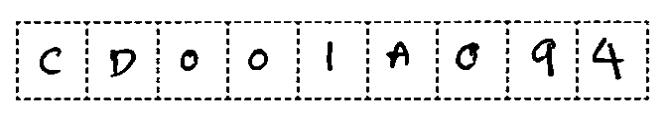0: (447, 39, 483, 75), (240, 43, 277, 78), (172, 43, 206, 77)
1: (314, 37, 343, 79)
4: (586, 34, 631, 86)
9: (524, 36, 566, 81)
A: (379, 36, 417, 74)
C: (34, 41, 68, 81)
D: (103, 43, 140, 81)
